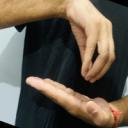hand: (26, 74, 114, 127), (64, 0, 116, 83)
